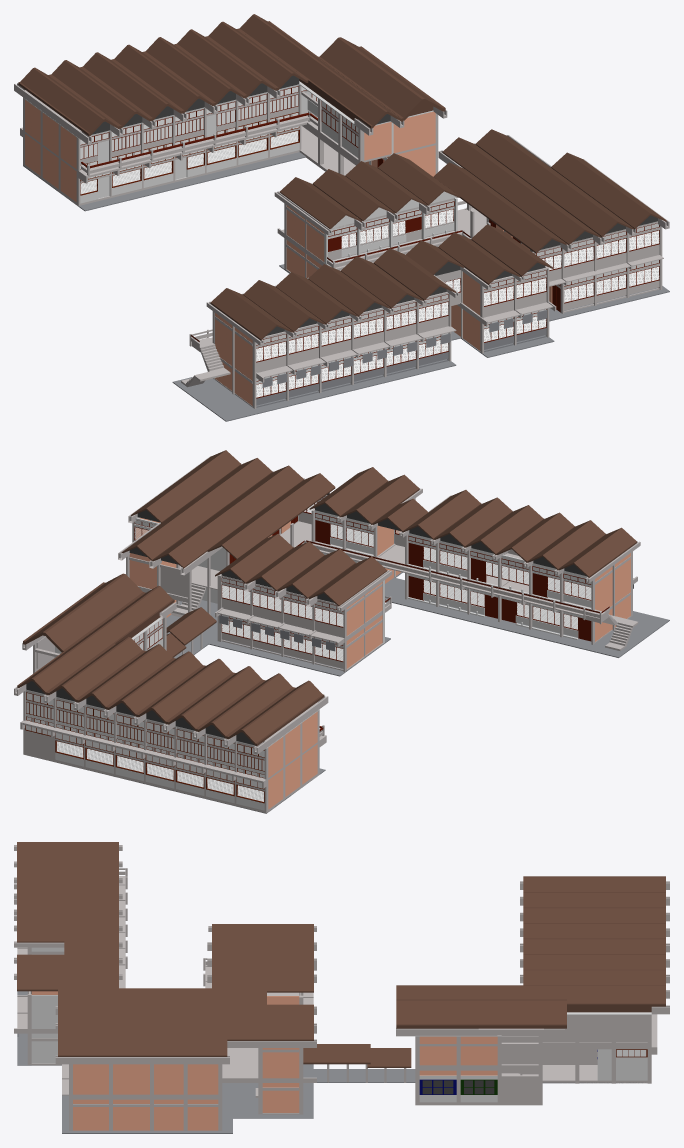
Rendered from logistics.glb.
The picture shows the model from 3 angles, top to bottom: view 1: azimuth 30°, elevation 25°; view 2: azimuth 150°, elevation 25°; view 3: azimuth 270°, elevation 25°; orthographic projection. The views are drawn at different scales.
Parts seen in each view (by area): view 1: Cube.080, Cube.054, Cube.027, wall.056, pilla, roof.016, roof.004, Cube.008, wall.027, Plane.130, wall.050, wall.023 (+35 smaller); view 2: Cube.080, Cube.054, Cube.027, wall.056, Cube.008, roof.016, pilla, roof.004, wall.027, wall.002, window.062, wall.007 (+33 smaller); view 3: Cube.080, Cube.054, wall.051, Cube.027, roof.016, roof.004, wall.056, wall.007, wall.004, pilla, Cube.008, roof.013 (+25 smaller).
Boxes of the visible parts, x1,y1,x2,y2 form: Cube.080: [433, 129, 666, 253]; Cube.054: [210, 224, 553, 340]; Cube.027: [279, 153, 459, 229]; wall.056: [23, 152, 669, 421]; pilla: [20, 85, 438, 205]; roof.016: [238, 14, 402, 128]; roof.004: [317, 37, 445, 121]; Cube.008: [212, 203, 662, 408]; wall.027: [192, 238, 553, 407]; Plane.130: [80, 86, 317, 159]; wall.050: [532, 221, 659, 312]; wall.023: [256, 292, 546, 372]; Cube.080: [121, 450, 335, 568]; Cube.054: [309, 467, 636, 577]; Cube.027: [215, 533, 387, 606]; wall.056: [52, 572, 669, 813]; Cube.008: [126, 498, 632, 671]; roof.016: [17, 585, 174, 694]; pilla: [20, 616, 326, 810]; roof.004: [23, 573, 145, 652]; wall.027: [312, 480, 640, 642]; wall.002: [221, 575, 343, 670]; window.062: [26, 702, 264, 771]; wall.007: [129, 521, 392, 642]; Cube.080: [58, 988, 313, 1056]; Cube.054: [17, 842, 118, 991]; wall.051: [73, 1064, 218, 1130]; Cube.027: [212, 924, 313, 992]; roof.016: [396, 985, 665, 1012]; roof.004: [396, 999, 566, 1028]; wall.056: [17, 991, 642, 1133]; wall.007: [62, 926, 316, 1114]; wall.004: [419, 1014, 657, 1070]; pilla: [415, 1015, 657, 1105]; Cube.008: [27, 947, 303, 1130]; roof.013: [523, 969, 665, 985].
Size of the model in its own units: 53.12 by 10.04 by 63.89.
